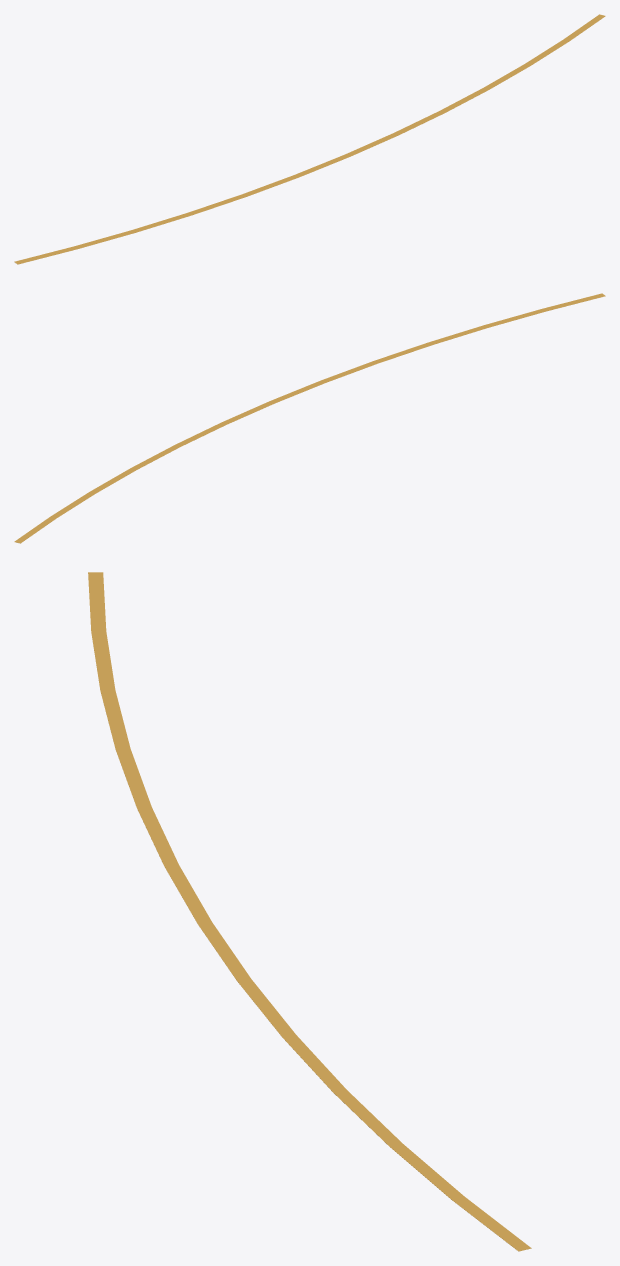
Rendered from RoadPlan_CurveMarking_2L_A30_R18_Center.glb.
3 renders of one model, top to bottom at view 1: azimuth 30°, elevation 25°; view 2: azimuth 210°, elevation 25°; view 3: azimuth 270°, elevation 25°, orthographic. The views are drawn at different scales.
Parts seen in each view (by area): view 1: RoadPlan_CurveMarking_2L_A30_R18_Center; view 2: RoadPlan_CurveMarking_2L_A30_R18_Center; view 3: RoadPlan_CurveMarking_2L_A30_R18_Center.
Boxes of the visible parts, box(x1,y1,x2,y2) form: RoadPlan_CurveMarking_2L_A30_R18_Center: box(14, 14, 605, 264); RoadPlan_CurveMarking_2L_A30_R18_Center: box(14, 293, 605, 543); RoadPlan_CurveMarking_2L_A30_R18_Center: box(88, 572, 531, 1251).
Size of the model in its own units: 9.02 by 0.0007 by 2.49.
